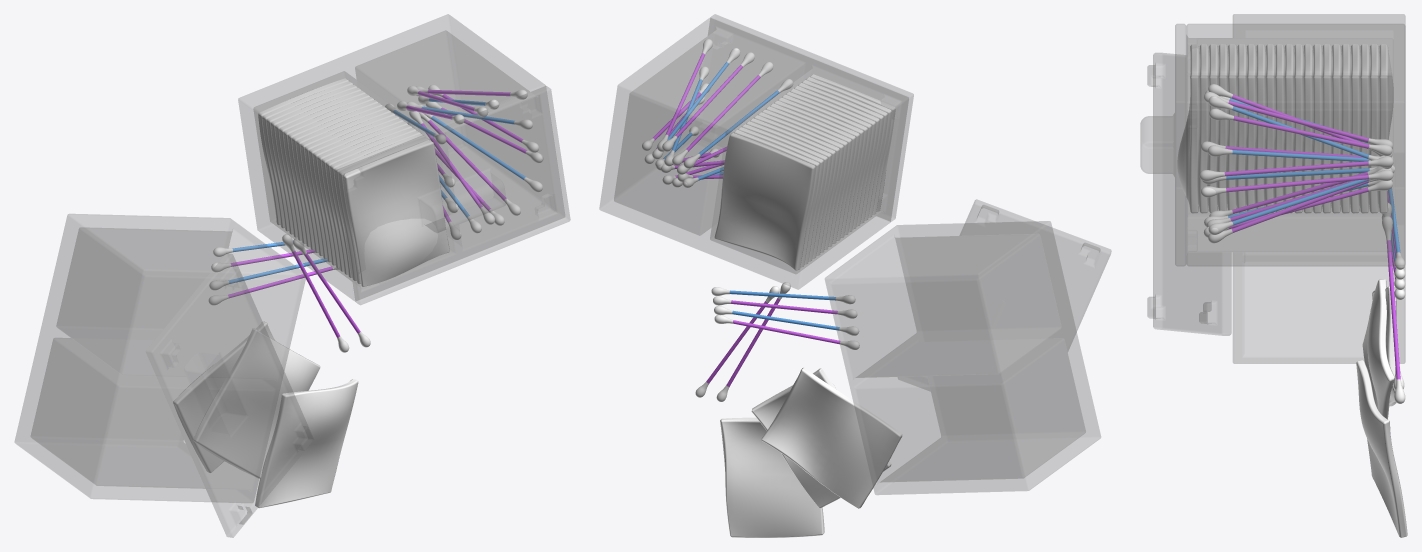
3 renders of one model, left to right at view 1: azimuth 30°, elevation 25°; view 2: azimuth 150°, elevation 25°; view 3: azimuth 270°, elevation 25°, orthographic. The views are drawn at different scales.
Visible parts, largest first — view 1: Object_39, Object_22, Object_23, Object_40, Object_3, Object_54, Object_53, Layer 03, Object_55, Object_9, Object_13, Object_17 (+17 smaller); view 2: Object_39, Object_22, Object_23, Object_55, Object_21, Object_53, Object_40, Layer 03, Object_54, Object_8, Object_13, Object_14 (+17 smaller); view 3: Object_22, Object_39, Object_40, Layer 03, Object_23, Object_53, Object_54, Object_3, Object_21, Object_4, Object_1, Object_8 (+17 smaller).
Boxes of the visible parts, x1,y1,x2,y2 form: Object_39: (14, 214, 306, 502); Object_22: (238, 14, 564, 301); Object_23: (336, 86, 570, 304); Object_40: (146, 253, 313, 537); Object_3: (343, 140, 449, 287); Object_54: (193, 328, 320, 478); Object_53: (255, 379, 358, 508); Layer 03: (228, 89, 526, 337); Object_55: (173, 321, 274, 472); Object_9: (317, 121, 408, 268); Object_13: (300, 109, 391, 256); Object_17: (275, 91, 365, 237); Object_39: (825, 221, 1100, 494); Object_22: (599, 18, 908, 289); Object_23: (699, 14, 913, 221); Object_55: (761, 367, 902, 508); Object_21: (714, 133, 815, 270); Object_53: (720, 417, 824, 537); Object_40: (898, 199, 1111, 390); Layer 03: (653, 53, 840, 386); Object_54: (751, 368, 891, 508); Object_8: (790, 89, 875, 226); Object_13: (770, 103, 855, 240); Object_14: (765, 106, 851, 243); Object_22: (1186, 24, 1405, 266); Object_39: (1233, 14, 1405, 363); Object_40: (1147, 53, 1231, 335); Layer 03: (1224, 94, 1400, 379); Object_23: (1140, 24, 1197, 266); Object_53: (1356, 360, 1407, 537); Object_54: (1362, 279, 1394, 419); Object_3: (1177, 44, 1200, 213); Object_21: (1378, 44, 1393, 213); Object_4: (1198, 44, 1209, 213); Object_1: (1226, 44, 1237, 209); Object_8: (1236, 44, 1247, 212).
Size of the model in its own units: 255 by 240 by 116.
